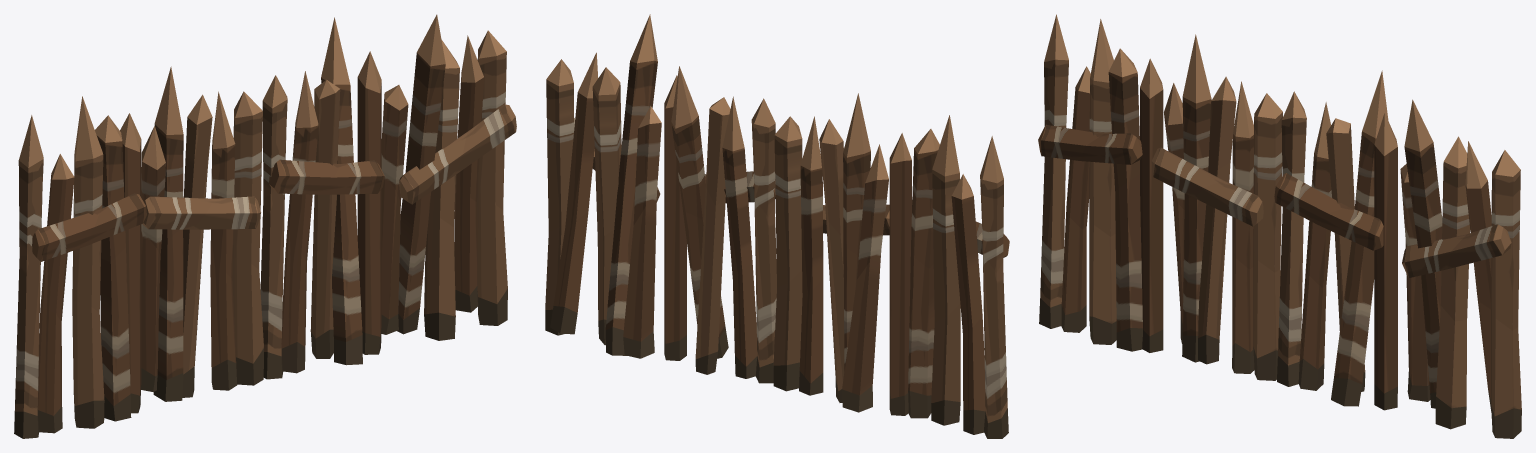
The model's file is bog_wall_a.gltf.
3 views of the same model, side by side, from view 1: azimuth 30°, elevation 25°; view 2: azimuth 150°, elevation 25°; view 3: azimuth 330°, elevation 25° (orthographic). The views are drawn at different scales.
Visible parts, largest first — view 1: bog_wall_a; view 2: bog_wall_a; view 3: bog_wall_a.
Boxes of the visible parts, bbox=[...] form: bog_wall_a: bbox=[14, 14, 516, 438]; bog_wall_a: bbox=[545, 14, 1009, 438]; bog_wall_a: bbox=[1038, 14, 1521, 438].
Bounding box in the file's own units: 9.99 × 6.67 × 1.53.
Materials: 1 (1 with a texture image).
